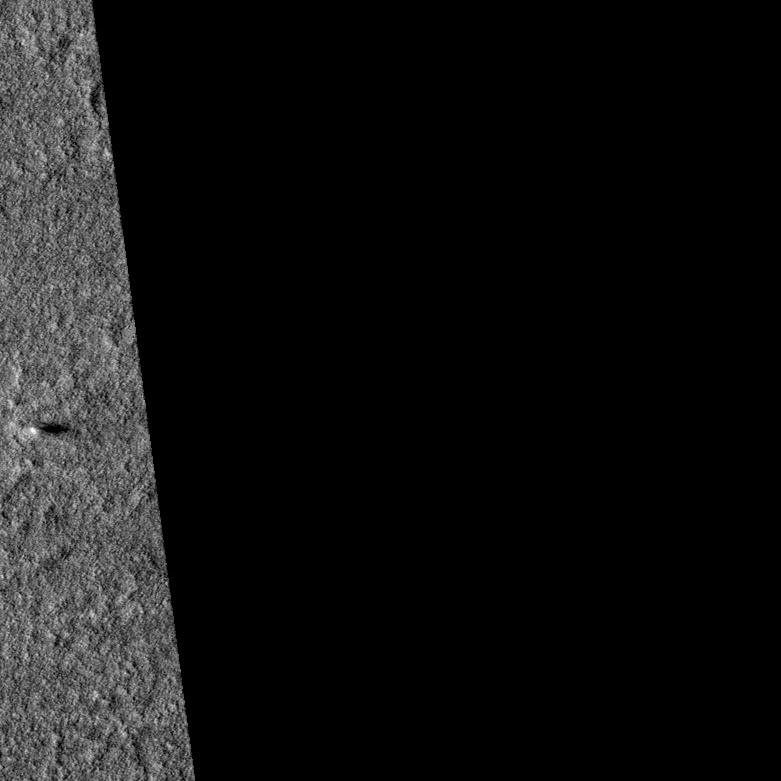dust_devil: (28, 422, 71, 437)
